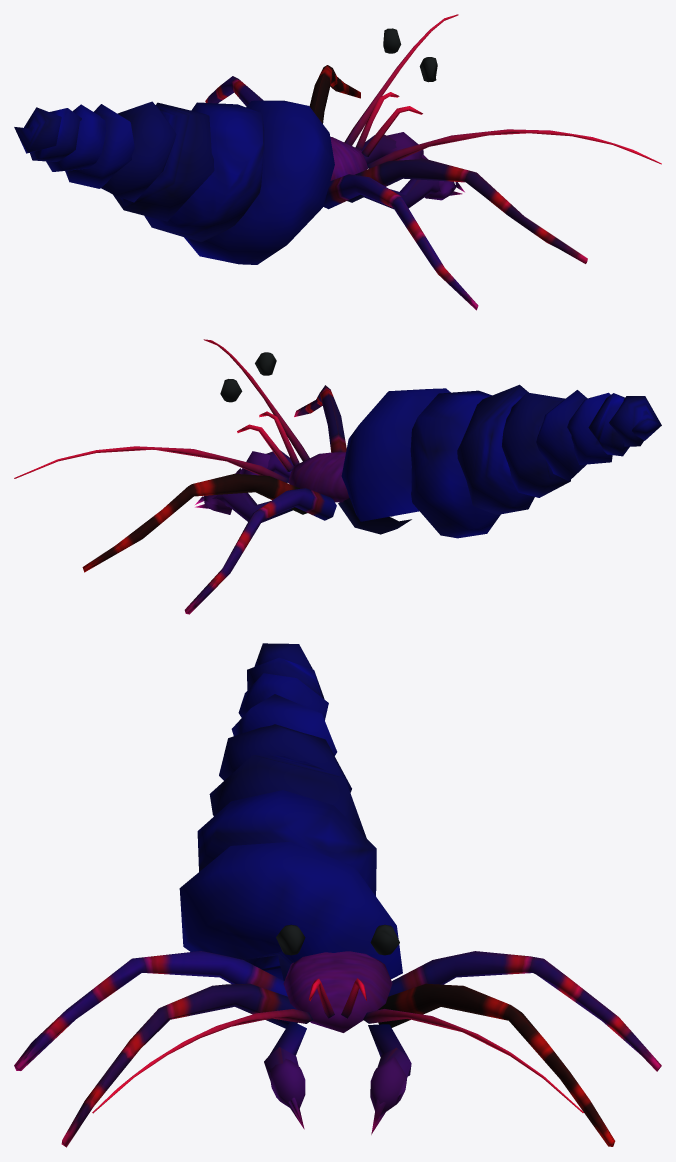
File: hermit_blue_lod1.glb
3 views of the same model, one above another, from view 1: azimuth 30°, elevation 25°; view 2: azimuth 150°, elevation 25°; view 3: azimuth 270°, elevation 25° (orthographic). The views are drawn at different scales.
Visible parts, largest first — view 1: Shell, Legs, Antennae, Claws, Body, Eyes; view 2: Shell, Legs, Antennae, Body, Claws, Eyes; view 3: Shell, Legs, Body, Claws, Antennae, Eyes.
Boxes of the visible parts, x1,y1,x2,y2 form: Shell: (14, 100, 334, 264); Legs: (205, 65, 587, 310); Antennae: (344, 14, 661, 168); Claws: (362, 132, 464, 209); Body: (330, 137, 368, 180); Eyes: (383, 28, 437, 82); Shell: (341, 384, 661, 538); Legs: (82, 385, 346, 614); Antennae: (14, 339, 309, 482); Body: (288, 452, 411, 534); Claws: (195, 450, 293, 522); Eyes: (220, 352, 276, 402); Shell: (179, 643, 402, 980); Legs: (14, 951, 661, 1147); Body: (283, 951, 392, 1032); Claws: (264, 1021, 411, 1134); Antennae: (92, 978, 583, 1113); Eyes: (276, 924, 399, 955).
Size of the model in its own units: 1.23 by 0.4085 by 1.01.
Materials: 2 (1 with a texture image).
